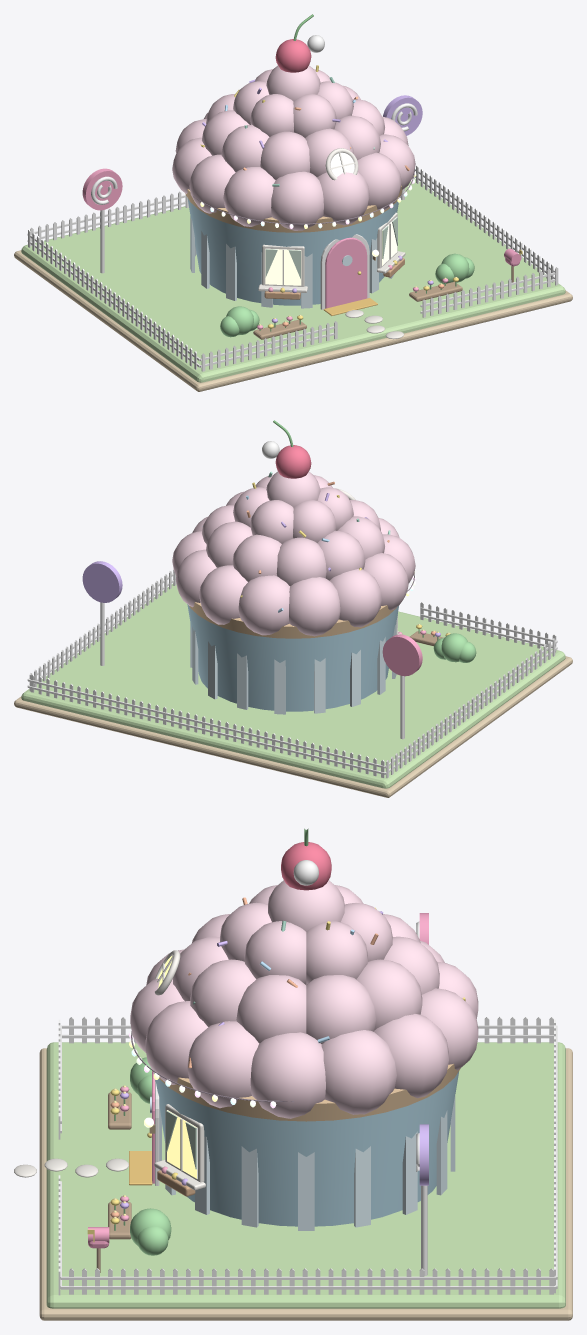
Rendered from building_sweets_L09.glb.
3 views of the same model, one above another, from view 1: azimuth 30°, elevation 25°; view 2: azimuth 150°, elevation 25°; view 3: azimuth 270°, elevation 25° (orthographic). The views are drawn at different scales.
Parts seen in each view (by area): view 1: sweets_L9, Body; view 2: sweets_L9, Body; view 3: sweets_L9, Body.
Boxes of the visible parts, left/top/right/bottom form: sweets_L9: left=14, top=35, right=572, bottom=391; Body: left=82, top=14, right=422, bottom=315; sweets_L9: left=14, top=441, right=572, bottom=797; Body: left=82, top=420, right=422, bottom=739; sweets_L9: left=14, top=860, right=572, bottom=1320; Body: left=129, top=828, right=478, bottom=1275.
Size of the model in its own units: 26.61 by 17.64 by 23.69.
